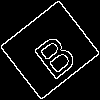B: (25, 25, 80, 82)
